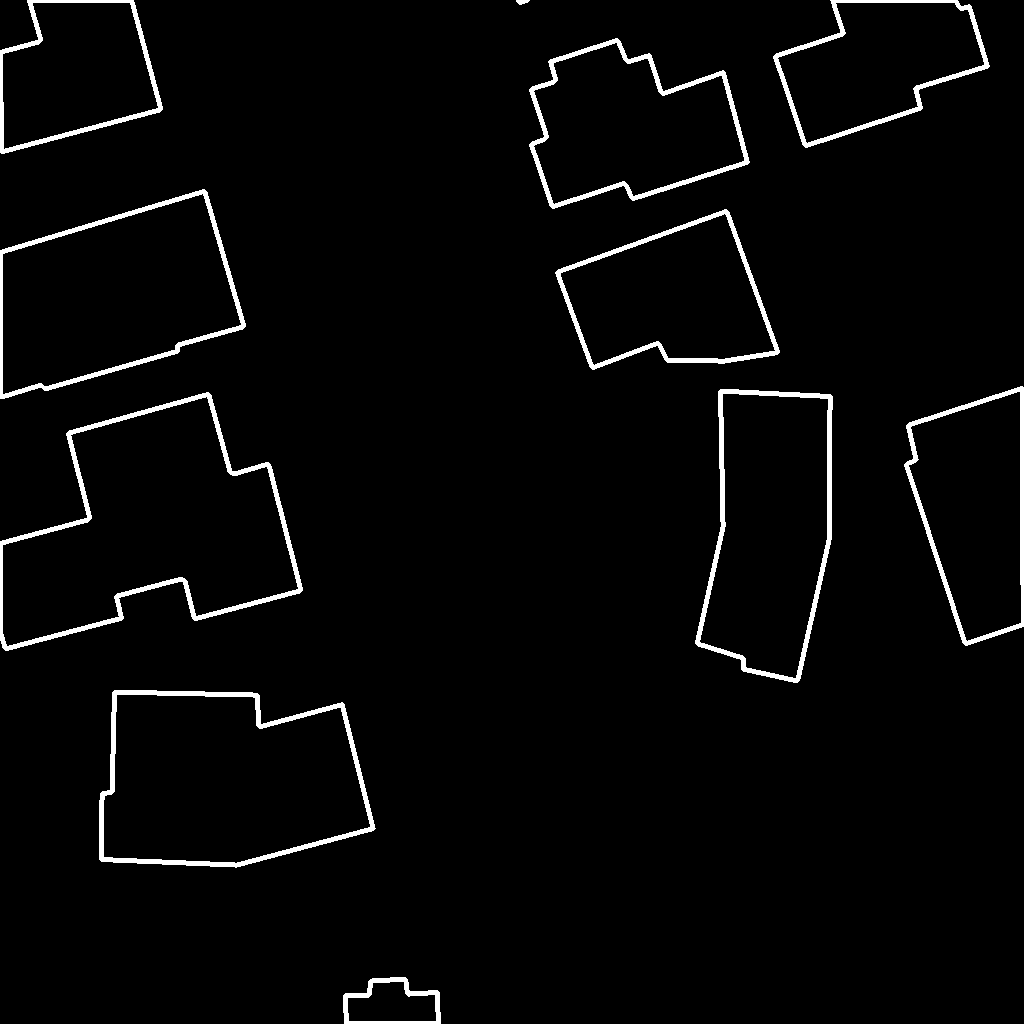building: (0, 394, 302, 650), (0, 191, 245, 398), (101, 692, 374, 866), (697, 391, 831, 682), (531, 40, 749, 208), (557, 211, 779, 369), (775, 0, 989, 147), (906, 388, 1024, 645), (0, 0, 162, 153), (345, 979, 440, 1024), (518, 0, 530, 4)
